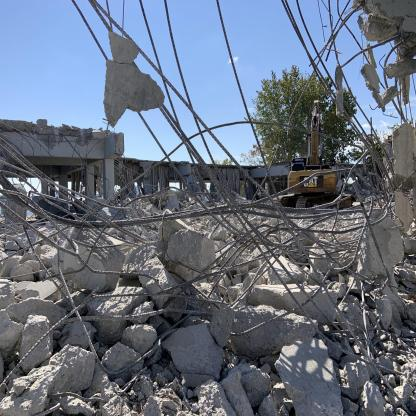rebar: (0, 0, 416, 407)
